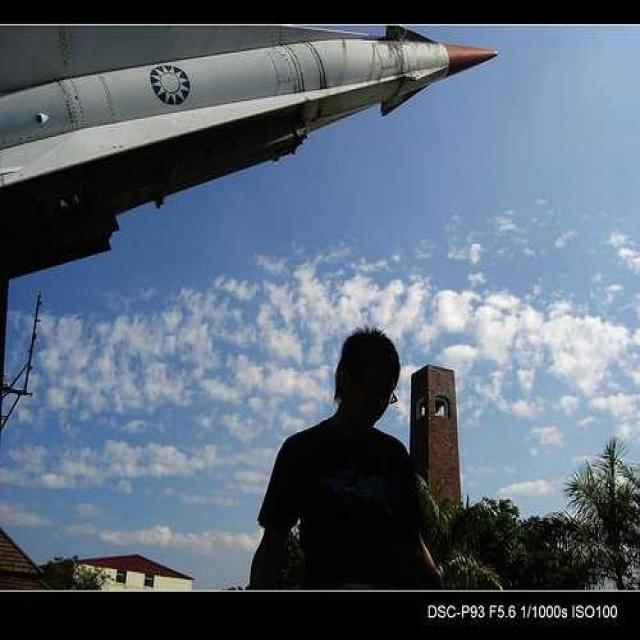missile: (1, 18, 499, 279)
